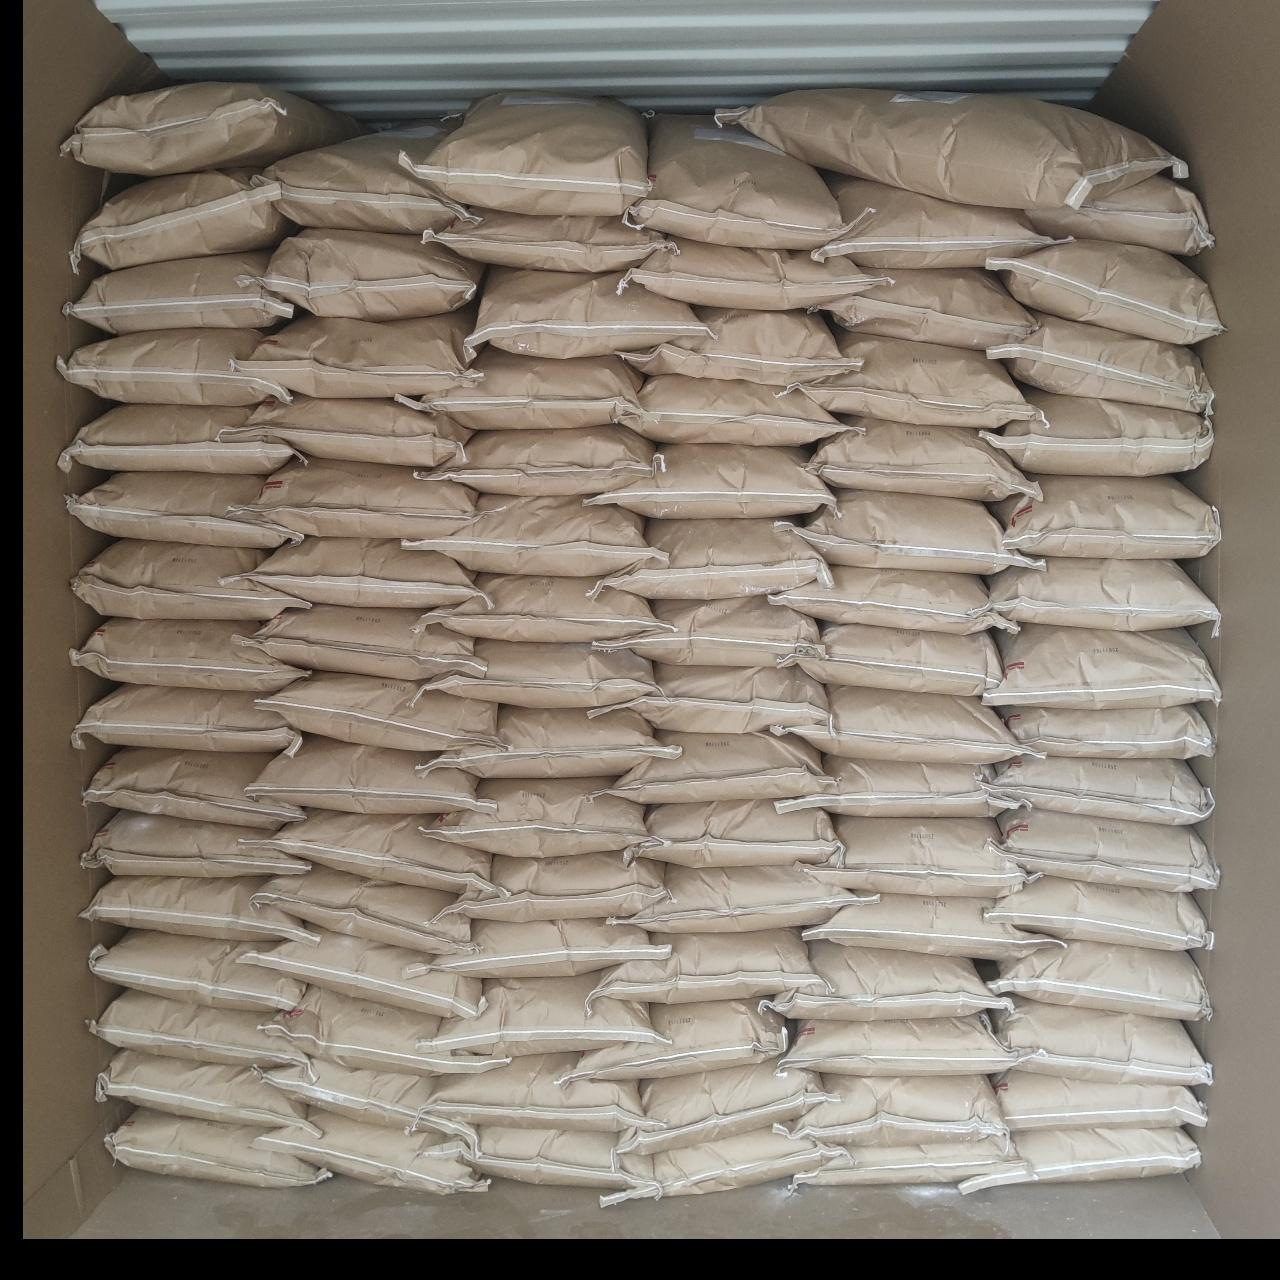sack: (716, 92, 1190, 206), (404, 96, 646, 214), (626, 118, 846, 246), (62, 84, 362, 174), (994, 240, 1222, 342), (796, 332, 1036, 428), (810, 176, 1050, 268), (72, 170, 290, 270), (990, 314, 1212, 412), (616, 1060, 838, 1156), (234, 310, 478, 396), (788, 490, 1036, 574), (468, 268, 702, 356), (256, 134, 470, 230), (264, 988, 506, 1072), (240, 930, 480, 1014), (408, 496, 660, 574), (260, 1058, 478, 1148), (984, 390, 1212, 476), (808, 418, 1038, 502), (260, 810, 490, 894), (244, 736, 490, 814), (404, 348, 642, 428), (264, 230, 480, 318), (616, 238, 886, 308), (242, 458, 478, 538), (72, 540, 308, 620), (984, 626, 1218, 706), (426, 1054, 664, 1132), (422, 974, 654, 1054), (258, 672, 494, 750), (996, 1000, 1210, 1086), (256, 866, 470, 952), (64, 254, 294, 334), (256, 1110, 486, 1190), (604, 1126, 846, 1202), (1000, 808, 1218, 892), (768, 944, 1012, 1018), (56, 328, 286, 406), (996, 476, 1220, 556), (620, 308, 854, 384), (586, 444, 832, 516), (602, 520, 826, 598), (70, 618, 306, 692), (84, 748, 302, 828), (106, 1108, 328, 1186), (566, 1000, 788, 1078), (814, 270, 1030, 350), (786, 688, 1026, 760), (422, 706, 676, 774), (224, 396, 470, 466), (248, 604, 480, 678), (990, 942, 1210, 1020), (90, 930, 304, 1010), (812, 816, 1030, 894), (68, 472, 296, 546), (426, 778, 646, 854), (988, 558, 1220, 630), (592, 930, 824, 1002), (418, 426, 662, 494), (988, 876, 1212, 950), (60, 404, 296, 474), (630, 864, 870, 932), (804, 894, 1058, 958), (436, 852, 668, 922), (618, 376, 856, 444), (592, 664, 830, 732), (98, 1050, 308, 1126), (244, 538, 478, 606), (420, 640, 654, 708), (90, 990, 304, 1064), (770, 566, 1014, 630), (80, 810, 308, 878), (80, 876, 312, 942), (610, 732, 828, 802), (418, 576, 660, 638), (410, 918, 668, 976), (74, 684, 300, 750), (958, 1128, 1198, 1190), (1025, 176, 1213, 255), (594, 596, 818, 662), (424, 210, 670, 270), (990, 756, 1212, 822), (794, 624, 1000, 694), (788, 1076, 1006, 1142), (782, 1014, 1014, 1076), (778, 756, 1018, 814), (440, 1124, 650, 1190), (628, 800, 842, 864), (996, 1072, 1206, 1128), (786, 1138, 1020, 1186), (1004, 706, 1212, 758)
